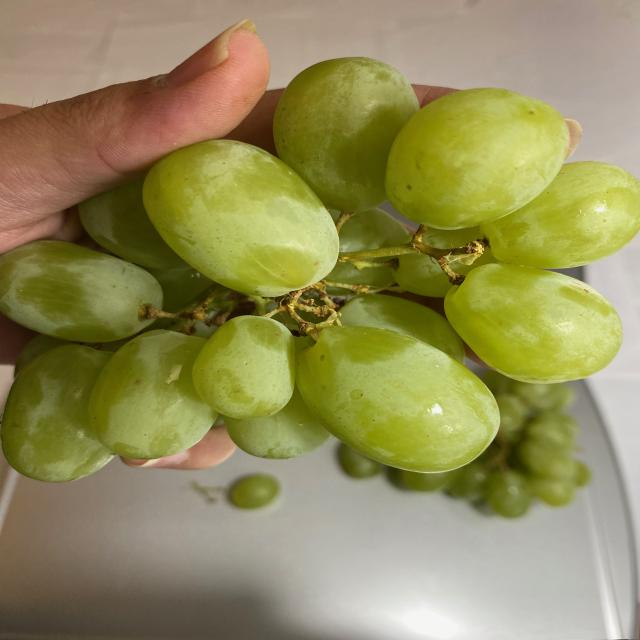grapes: (2, 60, 638, 488)
